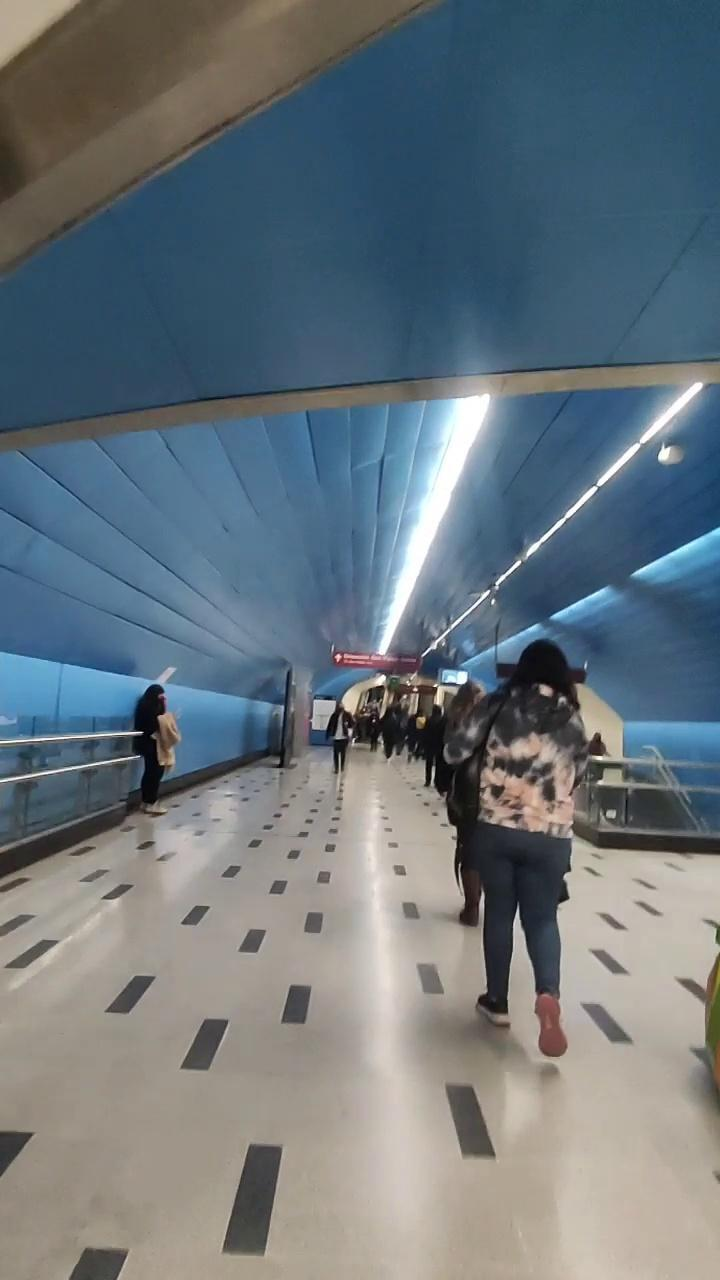up arrow: (333, 653, 343, 665)
